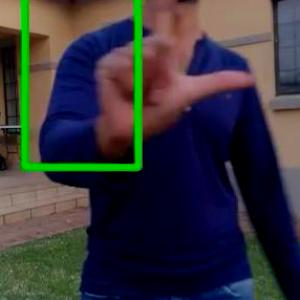land_hand: (89, 0, 260, 149)
